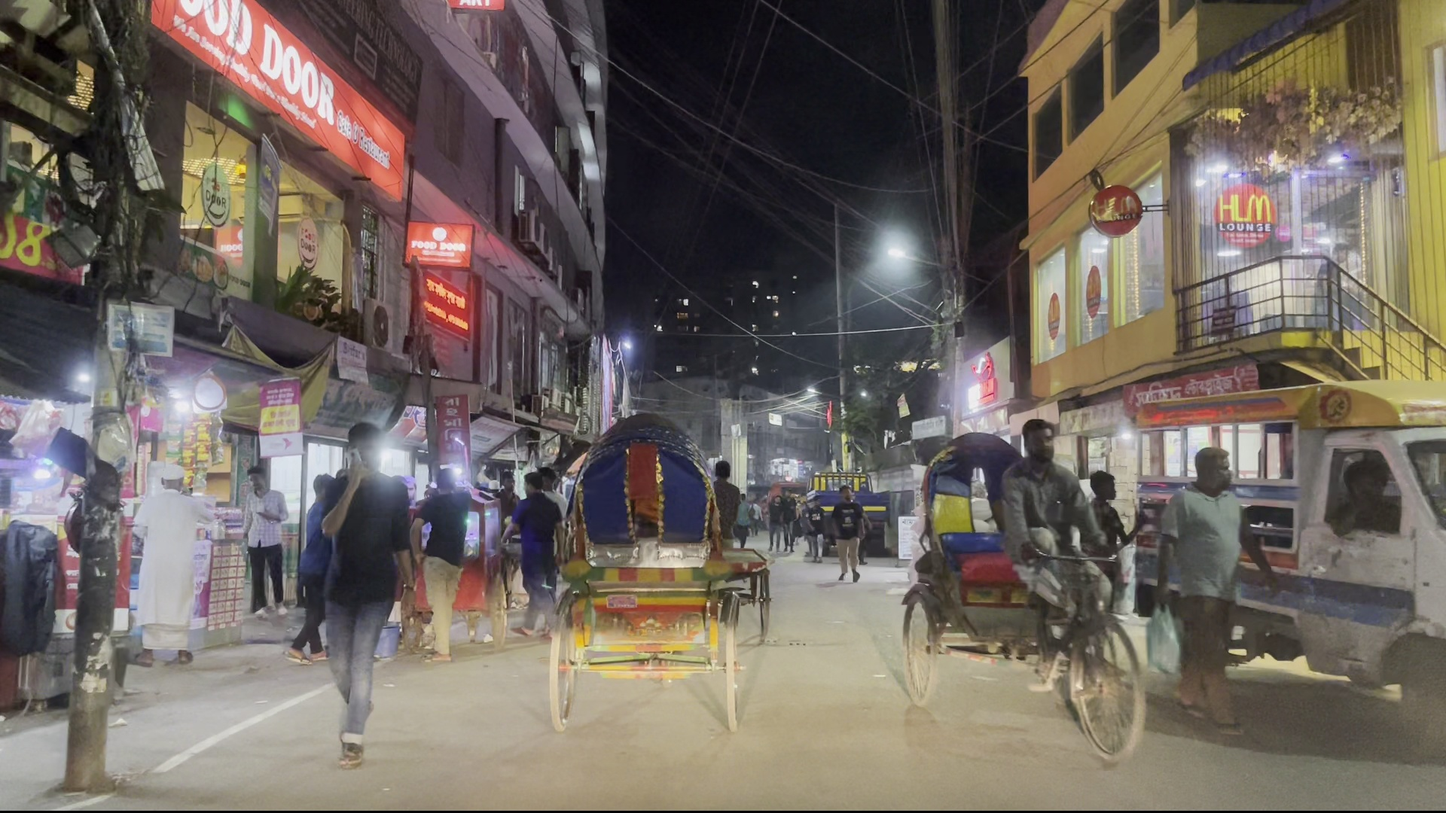car: (1127, 376, 1443, 720)
person: (310, 419, 413, 773), (1151, 444, 1252, 751), (131, 459, 199, 669), (411, 460, 474, 645), (1074, 457, 1139, 629), (240, 463, 294, 622), (511, 470, 560, 641), (831, 480, 865, 585)
